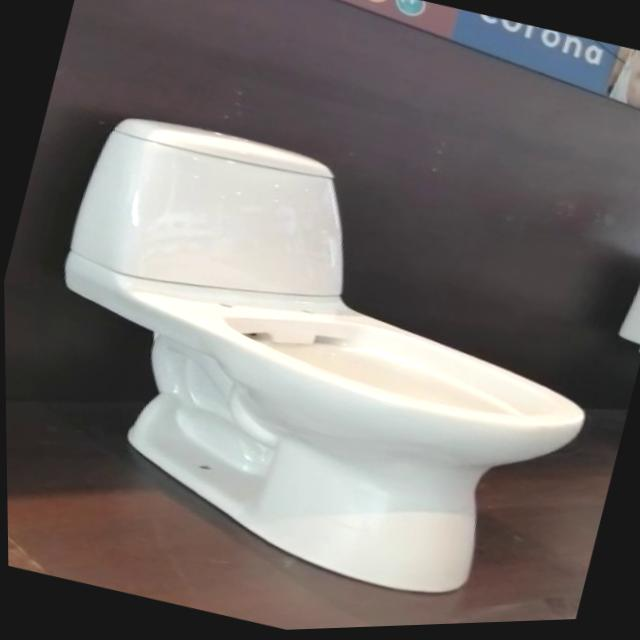toilet: (1, 88, 636, 640)
